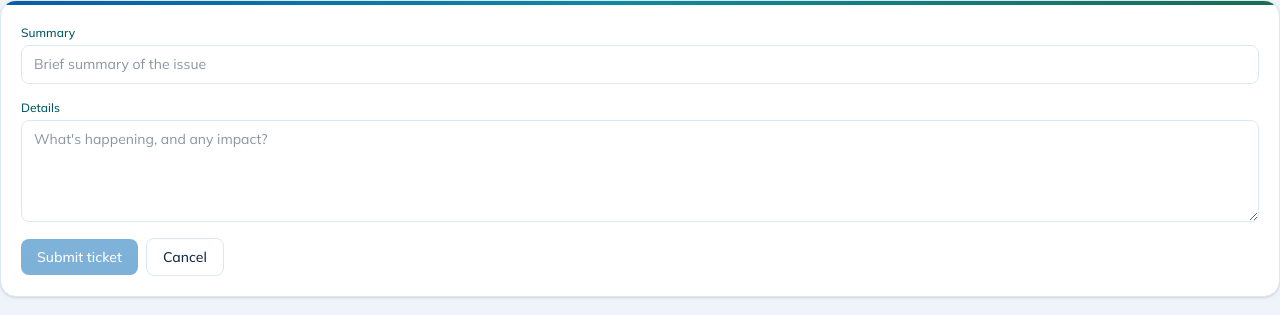
it: RaiseCase › disables submit until a summary is entered
Expected: the button "Submit ticket" is disabled, [21, 239, 138, 275]
Type "Printer down" into the field with placeholder "Brief summary of the issue" at (640, 64), box [21, 45, 1259, 84]
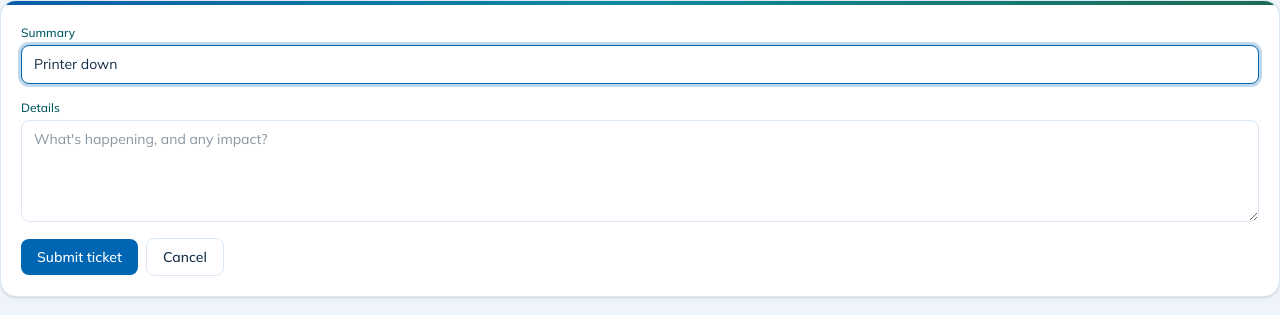
Result: the button "Submit ticket" is enabled at [21, 239, 138, 275]
